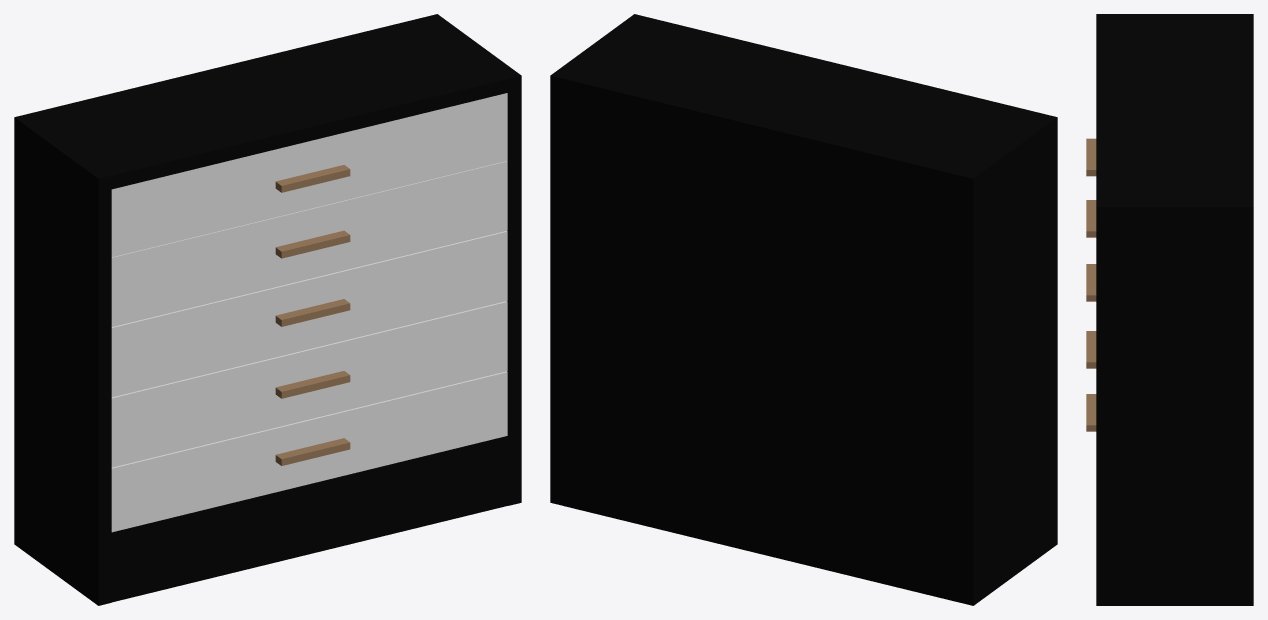
3 renders of one model, left to right at view 1: azimuth 30°, elevation 25°; view 2: azimuth 150°, elevation 25°; view 3: azimuth 270°, elevation 25°, orthographic. The views are drawn at different scales.
Parts seen in each view (by area): view 1: Cube.004, Cube.003, Cube.005, Cube.008, Cube.007, Cube.006, Cube.001, Cube.009, Cube.002, Cube.012, Cube.013, Cube.010 (+2 smaller); view 2: Cube, Cube.004, Cube.003, Cube.002; view 3: Cube.002, Cube.004, Cube.010, Cube.011, Cube.012, Cube.013, Cube.014.
Part boxes in pixels (left/top/right/bottom): Cube.004: left=14, top=14, right=521, bottom=192; Cube.003: left=14, top=131, right=111, bottom=605; Cube.005: left=111, top=436, right=508, bottom=602; Cube.008: left=111, top=301, right=507, bottom=467; Cube.007: left=111, top=231, right=507, bottom=397; Cube.006: left=111, top=161, right=507, bottom=326; Cube.001: left=111, top=93, right=507, bottom=257; Cube.009: left=111, top=371, right=507, bottom=532; Cube.002: left=507, top=89, right=521, bottom=505; Cube.012: left=275, top=299, right=350, bottom=326; Cube.013: left=275, top=371, right=350, bottom=398; Cube.010: left=275, top=165, right=350, bottom=192; Cube: left=563, top=93, right=960, bottom=602; Cube.004: left=550, top=14, right=1057, bottom=192; Cube.003: left=960, top=131, right=1057, bottom=605; Cube.002: left=550, top=89, right=563, bottom=505; Cube.002: left=1096, top=219, right=1253, bottom=605; Cube.004: left=1096, top=14, right=1253, bottom=219; Cube.010: left=1086, top=138, right=1096, bottom=176; Cube.011: left=1086, top=200, right=1096, bottom=237; Cube.012: left=1086, top=264, right=1096, bottom=301; Cube.013: left=1086, top=331, right=1096, bottom=368; Cube.014: left=1086, top=394, right=1096, bottom=431.
Size of the model in its own units: 0.6387 by 0.6163 by 0.234.
